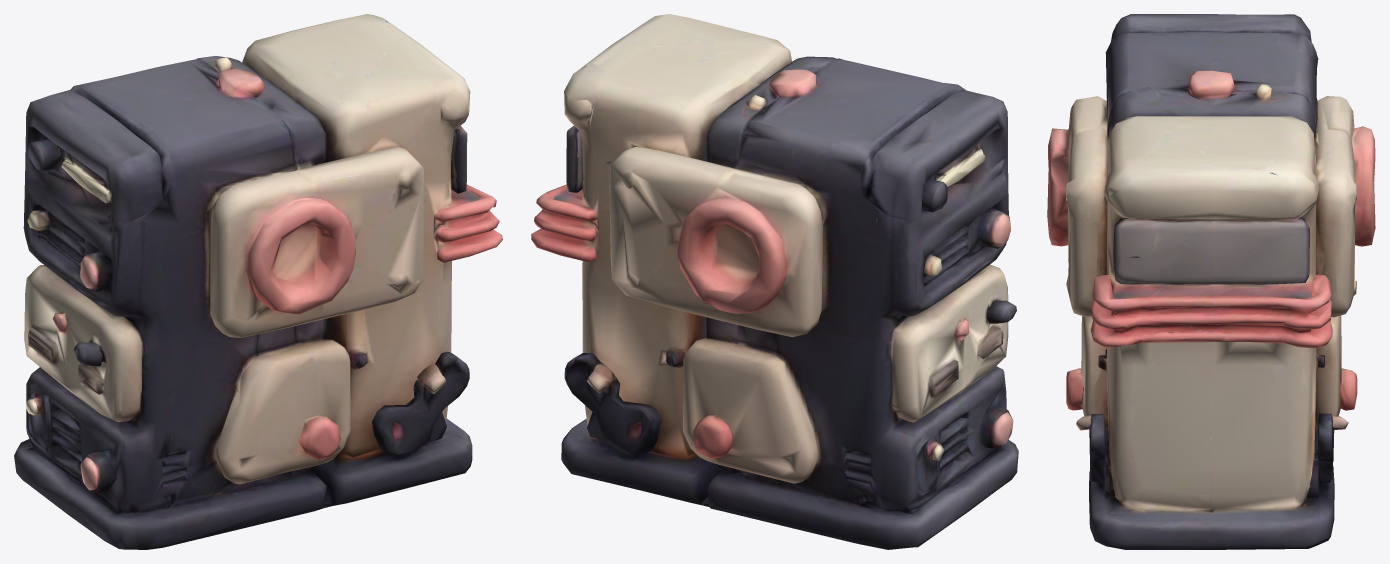
File: server_tower.glb
The picture shows the model from 3 angles, left to right: view 1: azimuth 30°, elevation 25°; view 2: azimuth 150°, elevation 25°; view 3: azimuth 270°, elevation 25°; orthographic projection. The views are drawn at different scales.
Parts seen in each view (by area): view 1: tripo_node_99b412e3-ea59-490c-b869-d892395e68ac; view 2: tripo_node_99b412e3-ea59-490c-b869-d892395e68ac; view 3: tripo_node_99b412e3-ea59-490c-b869-d892395e68ac.
Boxes of the visible parts, box(x1,y1,x2,y2) form: tripo_node_99b412e3-ea59-490c-b869-d892395e68ac: box(14, 14, 502, 549); tripo_node_99b412e3-ea59-490c-b869-d892395e68ac: box(531, 14, 1018, 549); tripo_node_99b412e3-ea59-490c-b869-d892395e68ac: box(1047, 14, 1375, 549).
Bounding box in the file's own units: 0.9771 × 0.9409 × 0.7126.
1 material, 1 textured.
